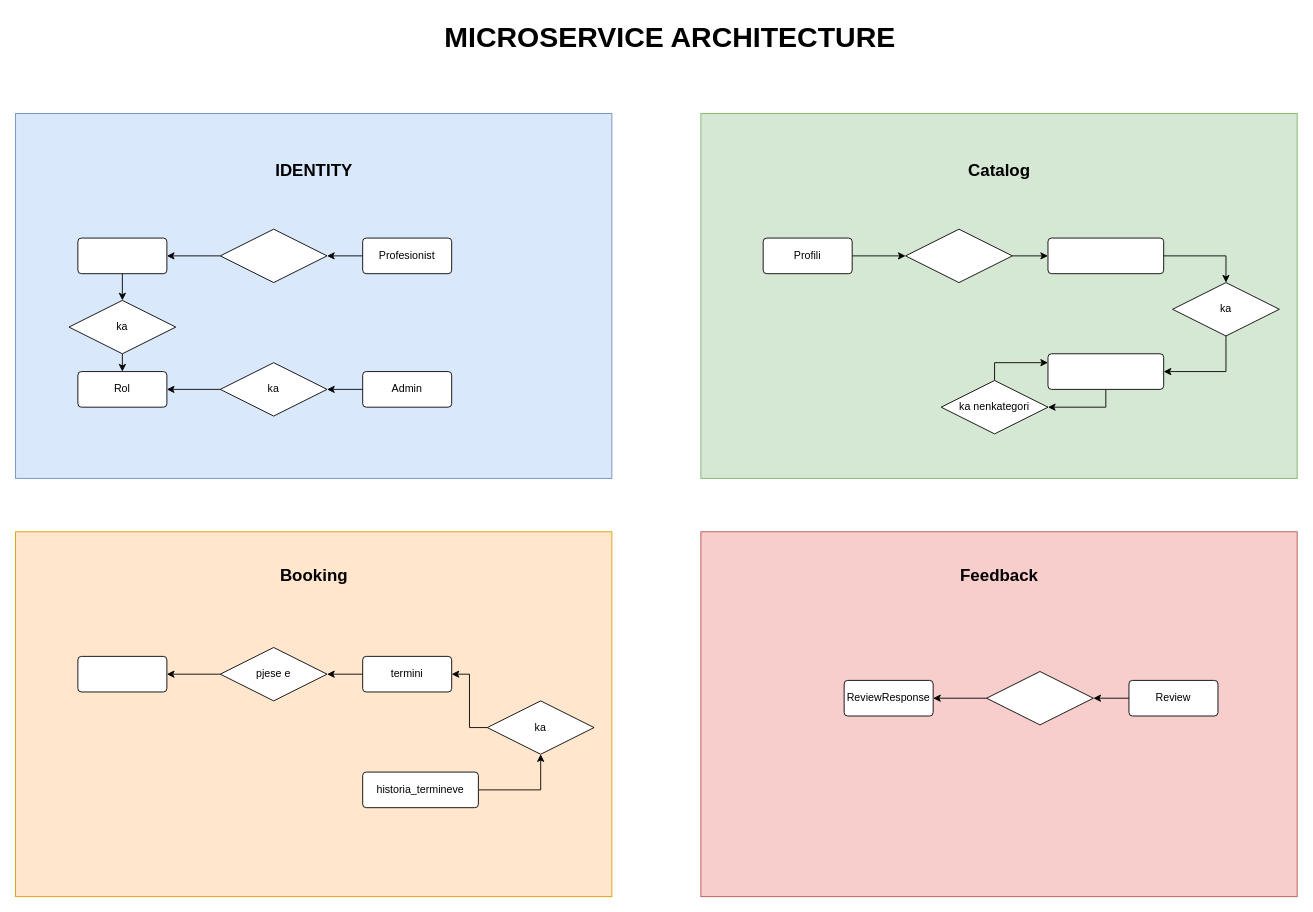
This 1313x912 diagram has some shape labels left out. Each missing label, with the box of its shape:
eshte: (219, 228, 327, 283)
Kategoria: (1047, 353, 1164, 389)
Kerkesa_punes: (77, 655, 167, 692)
mund te kete: (905, 228, 1012, 283)
percakton: (986, 671, 1093, 725)
Perdorues: (77, 237, 167, 274)
Sherbimi_Personal: (1047, 237, 1164, 274)
